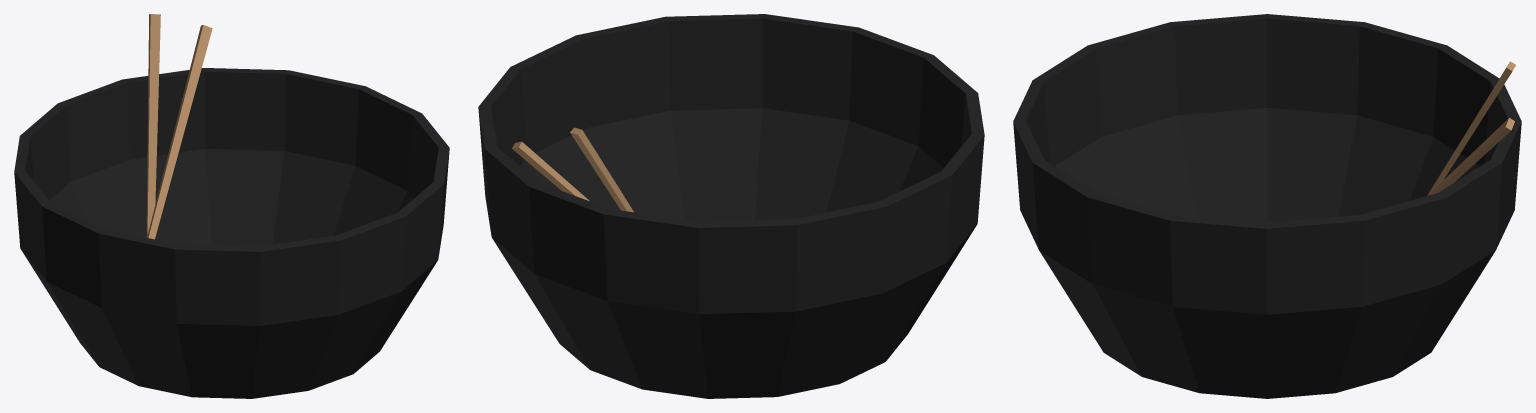
Rendered from SM_bowl_empty.fbx.
The picture shows the model from 3 angles, left to right: view 1: azimuth 30°, elevation 25°; view 2: azimuth 150°, elevation 25°; view 3: azimuth 270°, elevation 25°; orthographic projection. The views are drawn at different scales.
Parts seen in each view (by area): view 1: Cylinder042; view 2: Cylinder042; view 3: Cylinder042.
Part boxes in pixels (x1,y1,x2,y2): Cylinder042: (14, 14, 449, 398); Cylinder042: (478, 14, 984, 398); Cylinder042: (1013, 14, 1521, 398).
Bounding box in the file's own units: 15.95 × 15.95 × 11.19.
